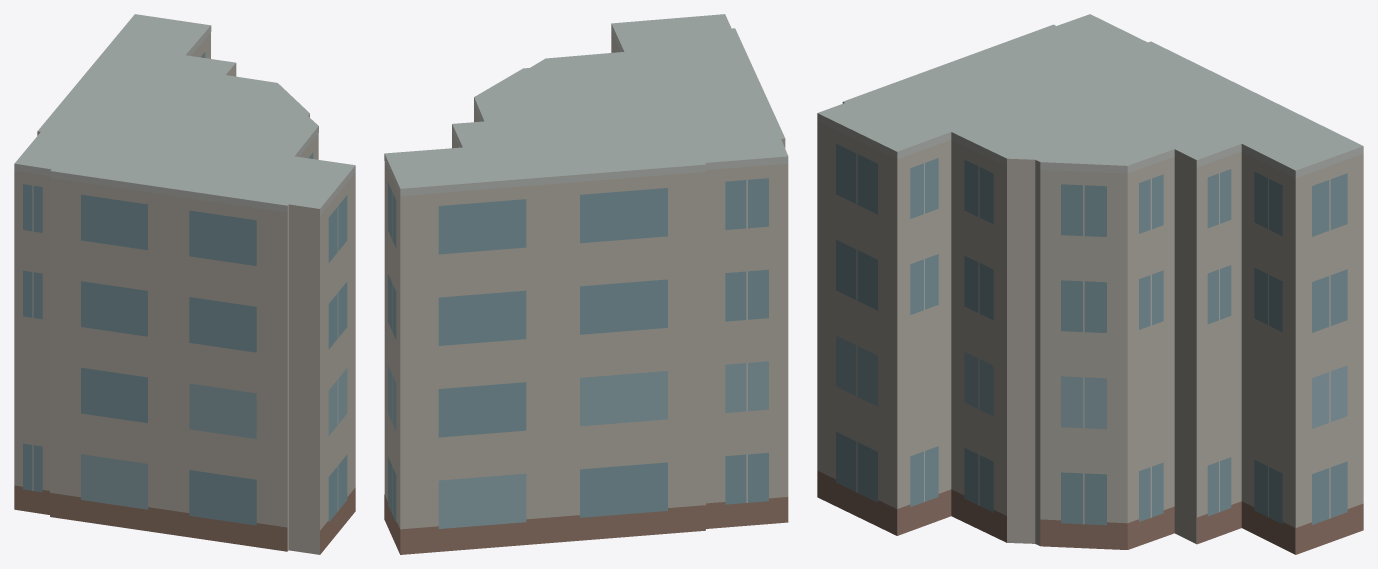
File: survey-upis-32990831.glb
The picture shows the model from 3 angles, left to right: view 1: azimuth 30°, elevation 25°; view 2: azimuth 150°, elevation 25°; view 3: azimuth 270°, elevation 25°; orthographic projection. The views are drawn at different scales.
Visible parts, largest first — view 1: survey-upis-32990831.tmp; view 2: survey-upis-32990831.tmp; view 3: survey-upis-32990831.tmp.
Part boxes in pixels (left/top/right/bottom): survey-upis-32990831.tmp: left=14, top=14, right=355, bottom=554; survey-upis-32990831.tmp: left=384, top=14, right=788, bottom=554; survey-upis-32990831.tmp: left=817, top=14, right=1363, bottom=554.
Bounding box in the file's own units: 10.77 × 12.3 × 15.86.
